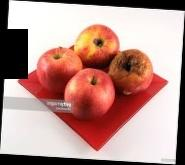red apple: (61, 64, 115, 120), (32, 43, 82, 94), (72, 22, 118, 66)
rotten apple: (108, 46, 153, 96)
